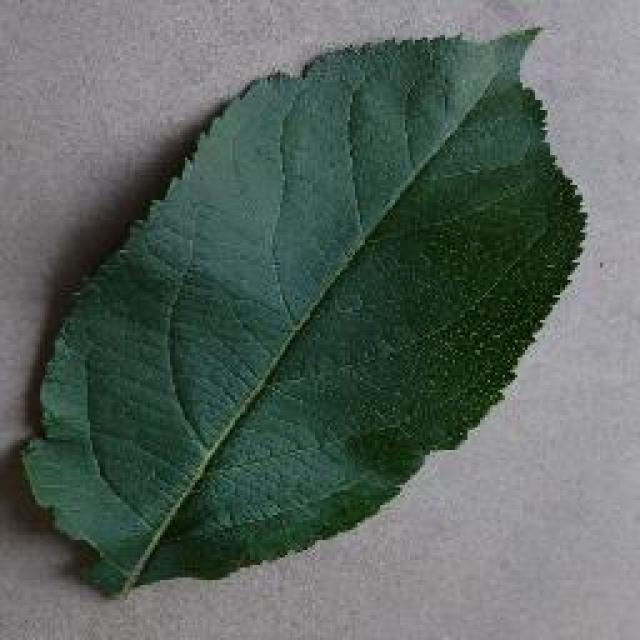apple healthy: (18, 22, 588, 600)
